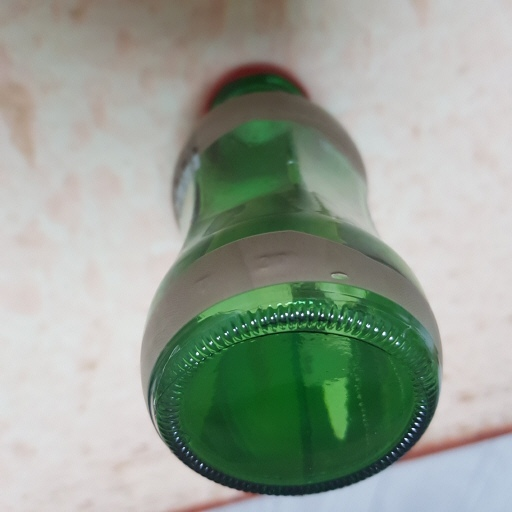Glass_4: (135, 63, 445, 493)
